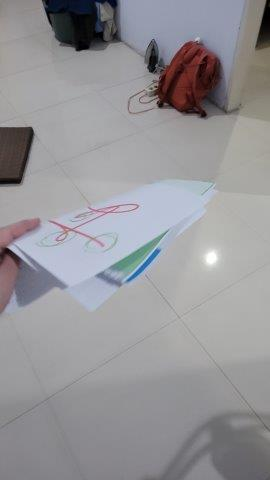kertas: (8, 178, 211, 318)
